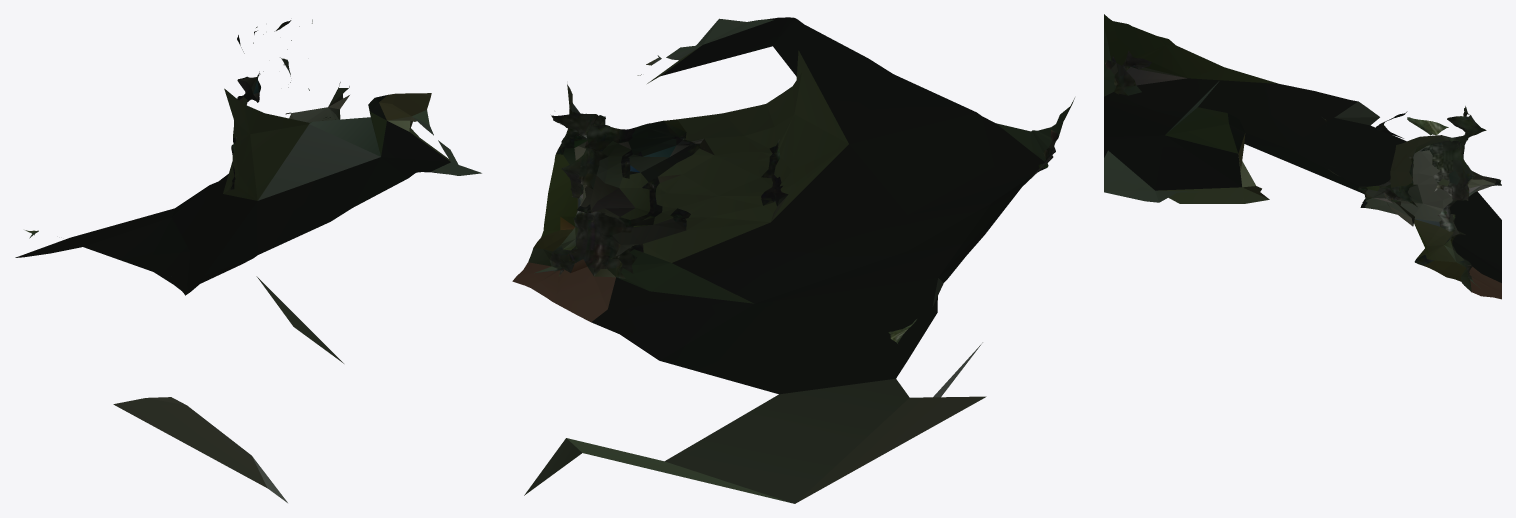
3 renders of one model, left to right at view 1: azimuth 30°, elevation 25°; view 2: azimuth 150°, elevation 25°; view 3: azimuth 270°, elevation 25°, orthographic. The views are drawn at different scales.
Bounding box in the file's own units: 3.93 × 3.91 × 3.93.
1 material, 1 textured.
